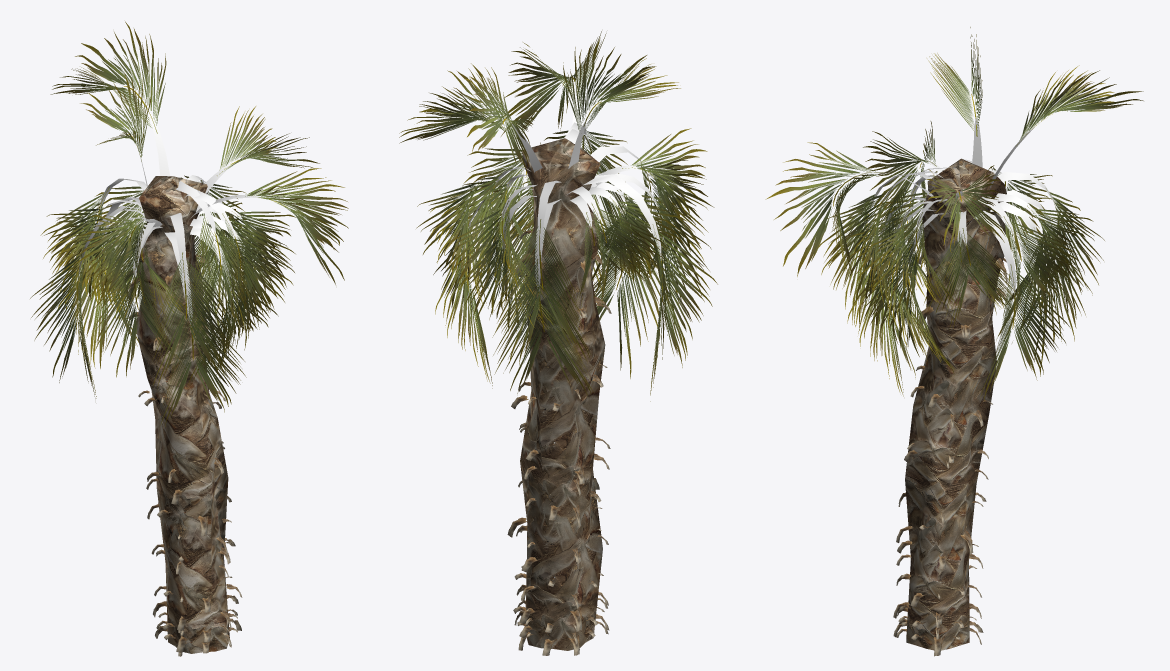
File: palm3.obj
3 renders of one model, left to right at view 1: azimuth 30°, elevation 25°; view 2: azimuth 150°, elevation 25°; view 3: azimuth 270°, elevation 25°, orthographic. The views are drawn at different scales.
Visible parts, largest first — view 1: curly palm leaf, palm07, object 2, barkpalm; view 2: curly palm leaf, palm07, object 2, barkpalm; view 3: curly palm leaf, palm07, object 2, barkpalm.
Boxes of the visible parts, x1,y1,x2,y2 form: curly palm leaf: (30,21,348,426); palm07: (135,176,229,653); object 2: (78,108,260,327); barkpalm: (121,254,242,656); curly palm leaf: (399,31,717,401); palm07: (520,138,605,650); object 2: (465,81,661,294); barkpalm: (507,230,611,655); curly palm leaf: (765,27,1143,400); palm07: (905,158,1008,650); object 2: (858,117,1054,295); barkpalm: (893,251,1007,656).
Size of the model in its own units: 104 by 207 by 127.
4 materials, 3 textured.
